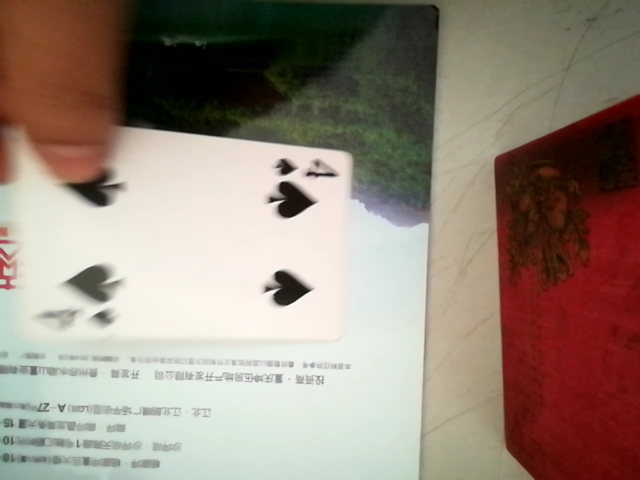ht 4: (12, 122, 367, 349)
